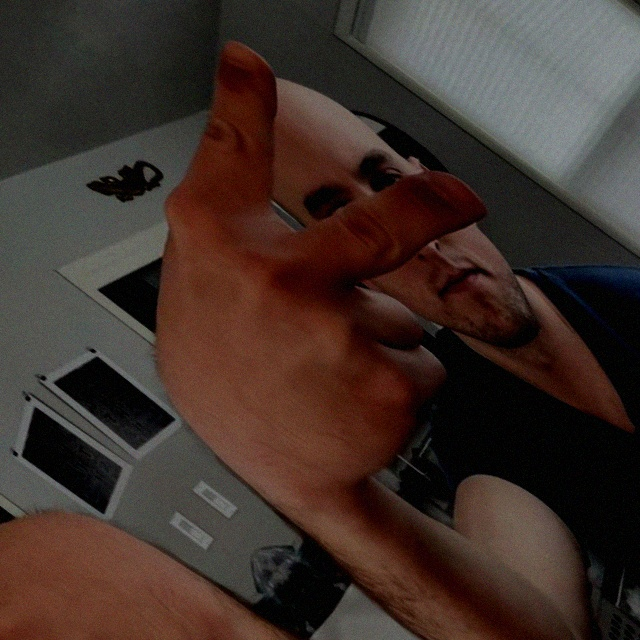Scissors: (0, 0, 73, 183)
